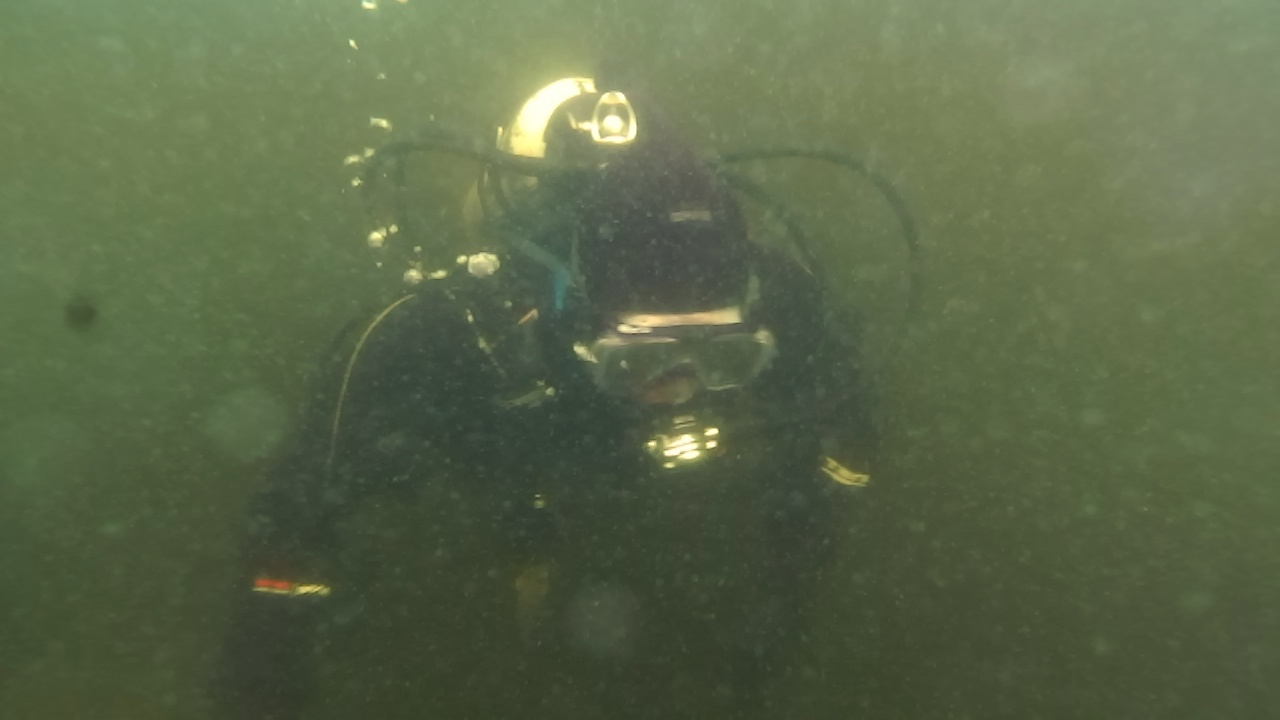Diver: (220, 96, 938, 708)
Hand: (196, 548, 348, 708)
Head: (522, 202, 810, 492)
